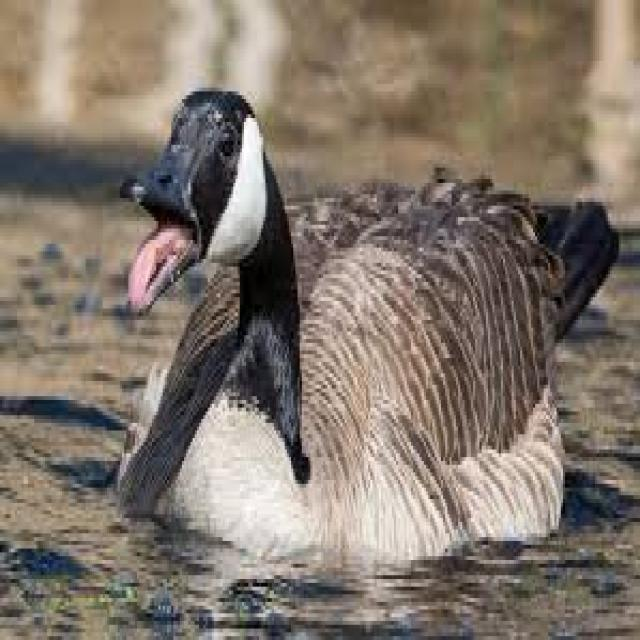Goose: (121, 89, 604, 562)
